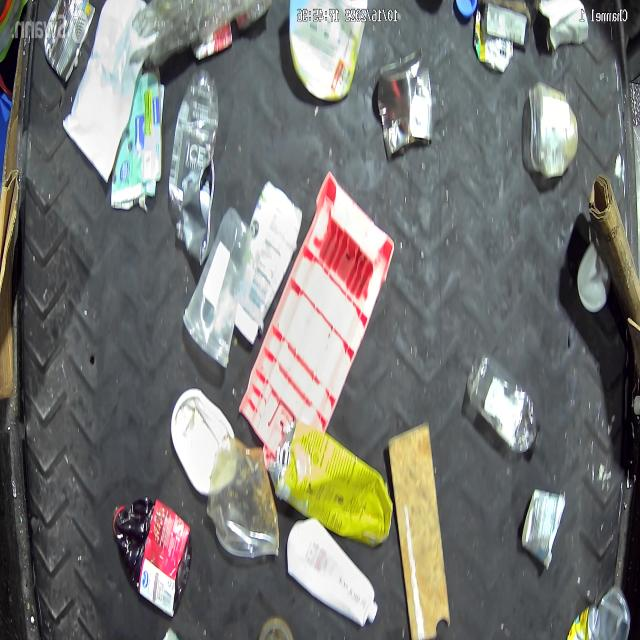can: (373, 46, 438, 160), (37, 0, 94, 85), (179, 150, 220, 264)
milk_jug: (281, 0, 369, 106)
plastic_bottle: (462, 356, 542, 469), (166, 67, 216, 246)
